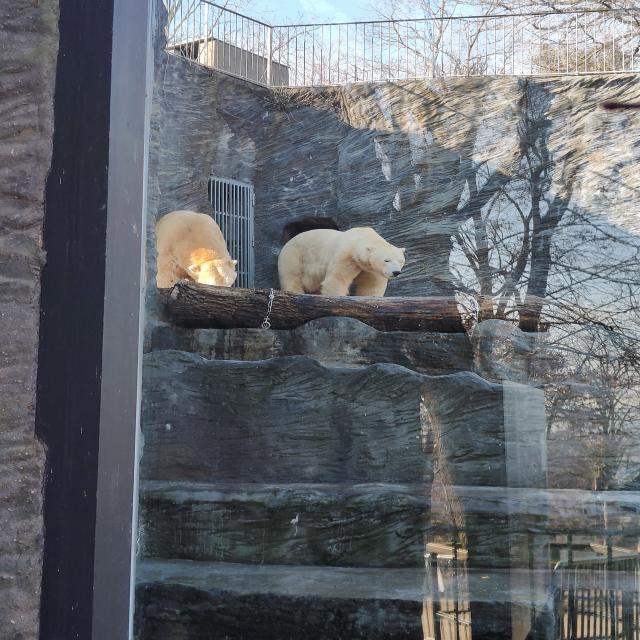bear: (277, 227, 406, 297), (154, 210, 238, 288)
